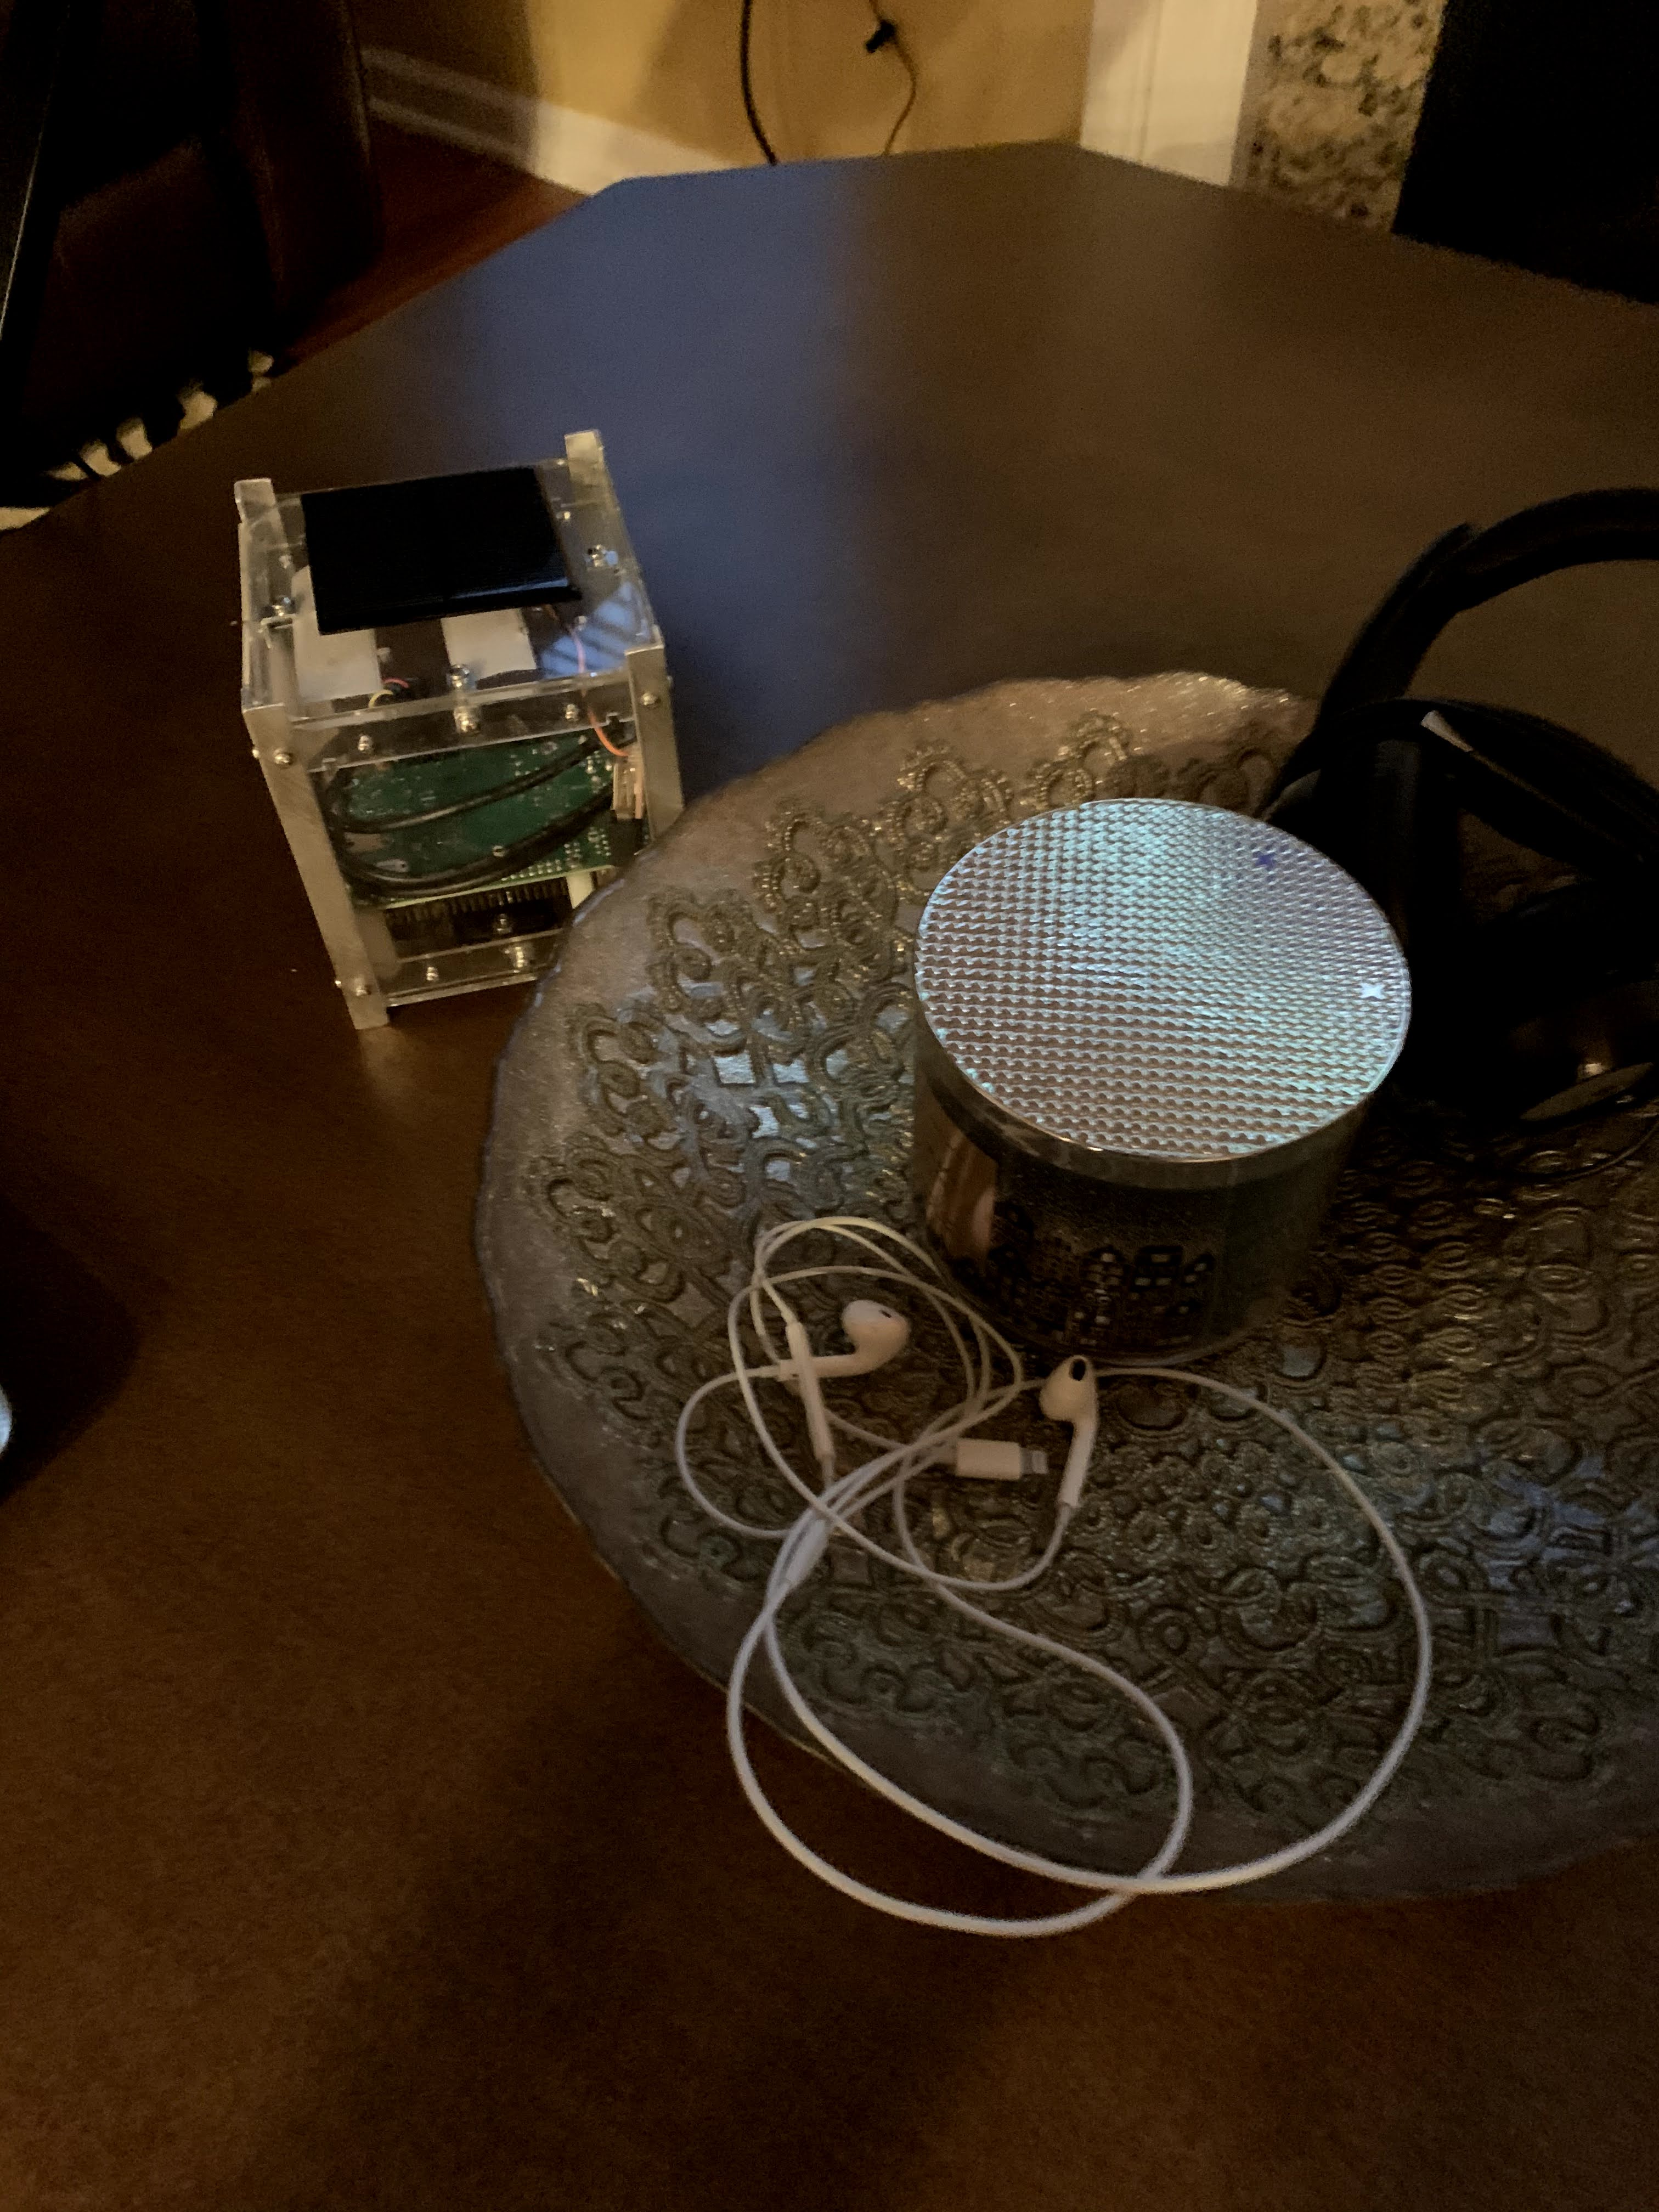Space-debris-cubesat: (211, 455, 711, 1042)
